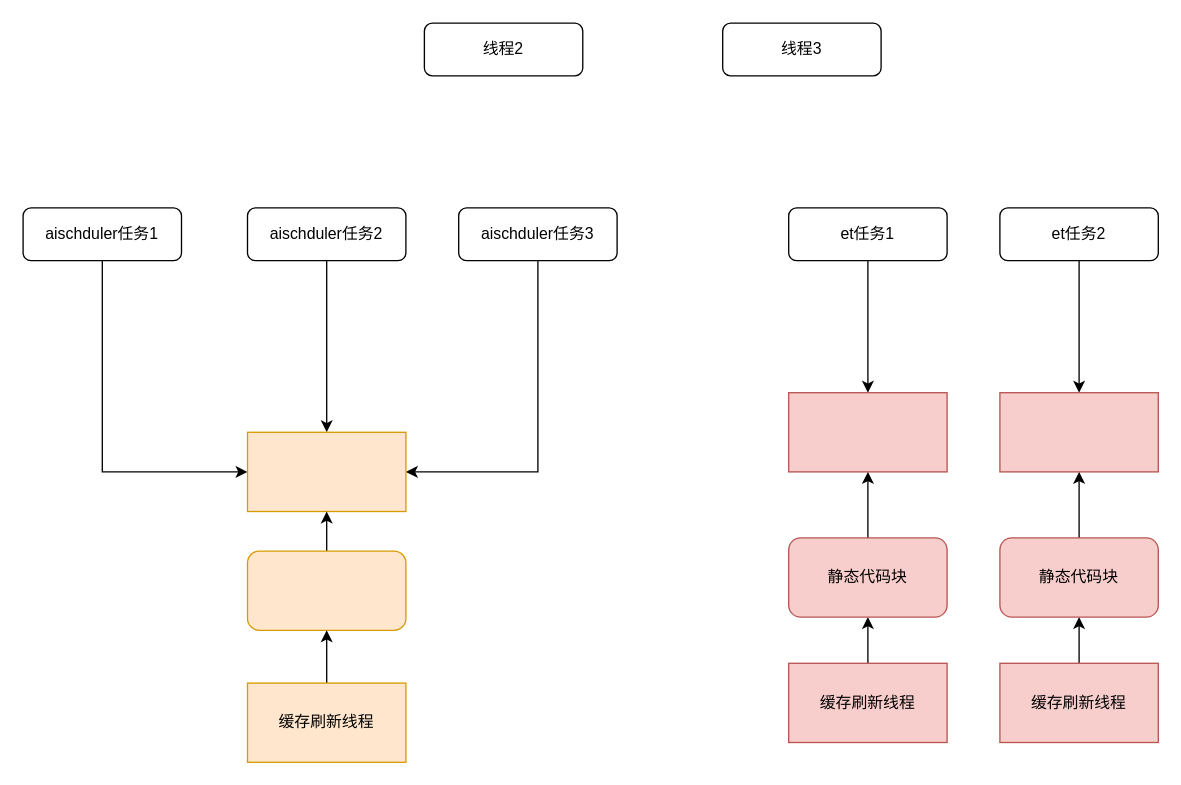
Some shapes in this 1181 by 785 pixel diagram are drawn without their labels. Here are the shapes that lost their labels. From the top down, the box of each, then its label:
(787, 391, 947, 472): java应用进程1
(999, 391, 1158, 472): java应用进程2
(246, 431, 406, 512): java应用进程
(246, 550, 406, 630): 静态代码 当前应用里面只会有一份，只要任意一个任务关闭缓存刷新线程，那么此应用就不会在刷新缓存了
